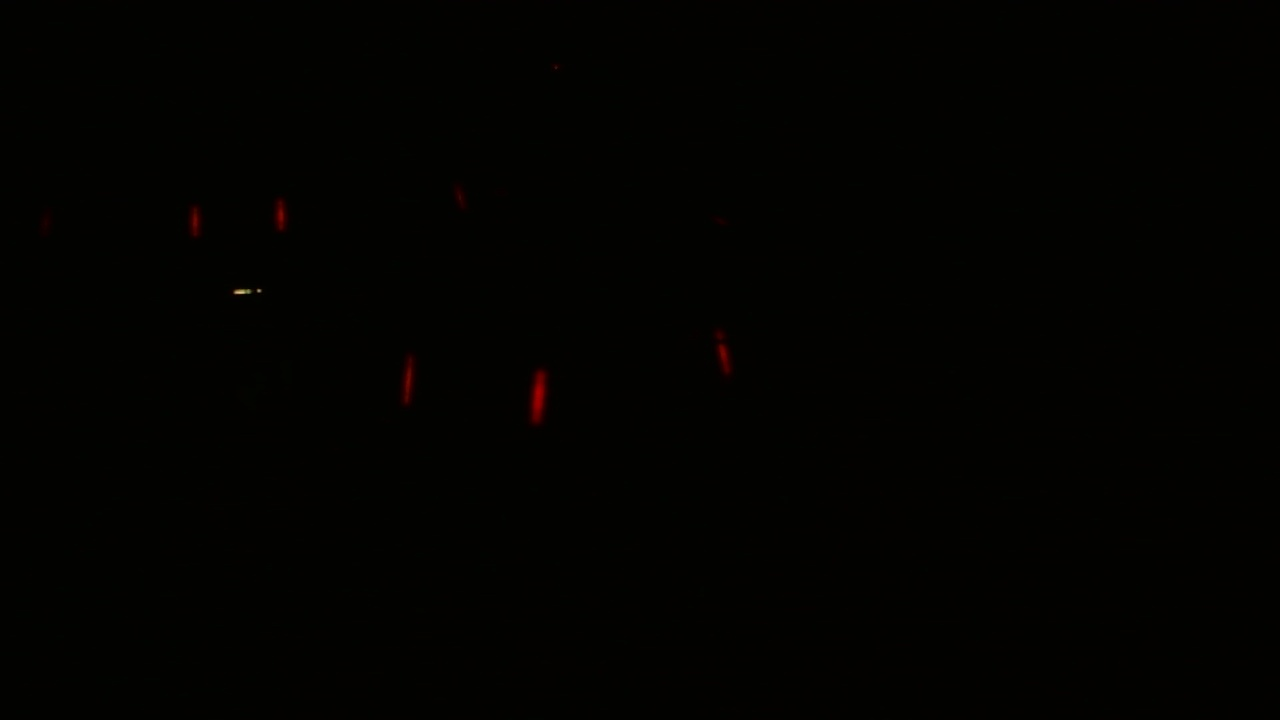pair1: (177, 190, 294, 246)
pair2: (392, 346, 552, 436)
